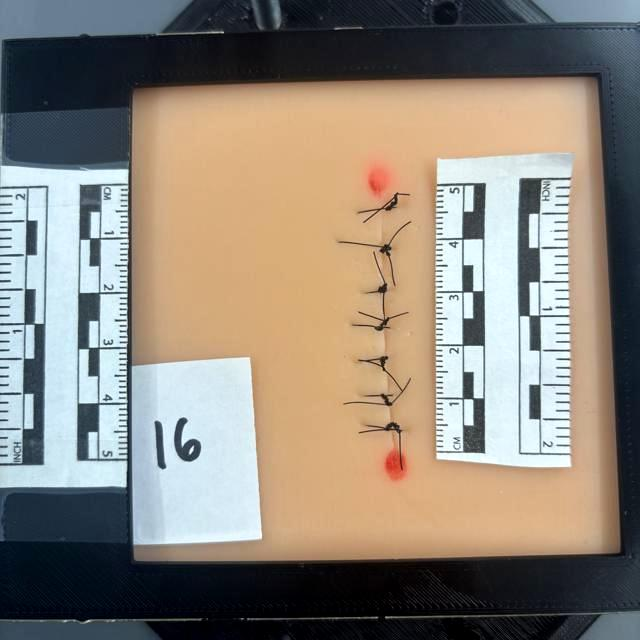incision_line: (375, 182, 401, 473)
scale_marker: (431, 291, 464, 345)
suture_d: (374, 208, 394, 249), (374, 246, 392, 290), (379, 360, 396, 397), (376, 289, 392, 327), (375, 327, 394, 358), (382, 395, 398, 428)
suture_l: (336, 239, 382, 251), (352, 322, 382, 333), (361, 422, 392, 432), (352, 207, 380, 215), (360, 356, 385, 364), (358, 393, 389, 399), (362, 290, 383, 296)
suture_r: (380, 205, 400, 213), (380, 244, 392, 253), (383, 323, 393, 332), (392, 423, 402, 432), (386, 393, 397, 398), (382, 287, 391, 293), (384, 357, 388, 365)
